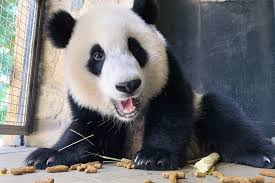panda: (33, 1, 216, 160)
